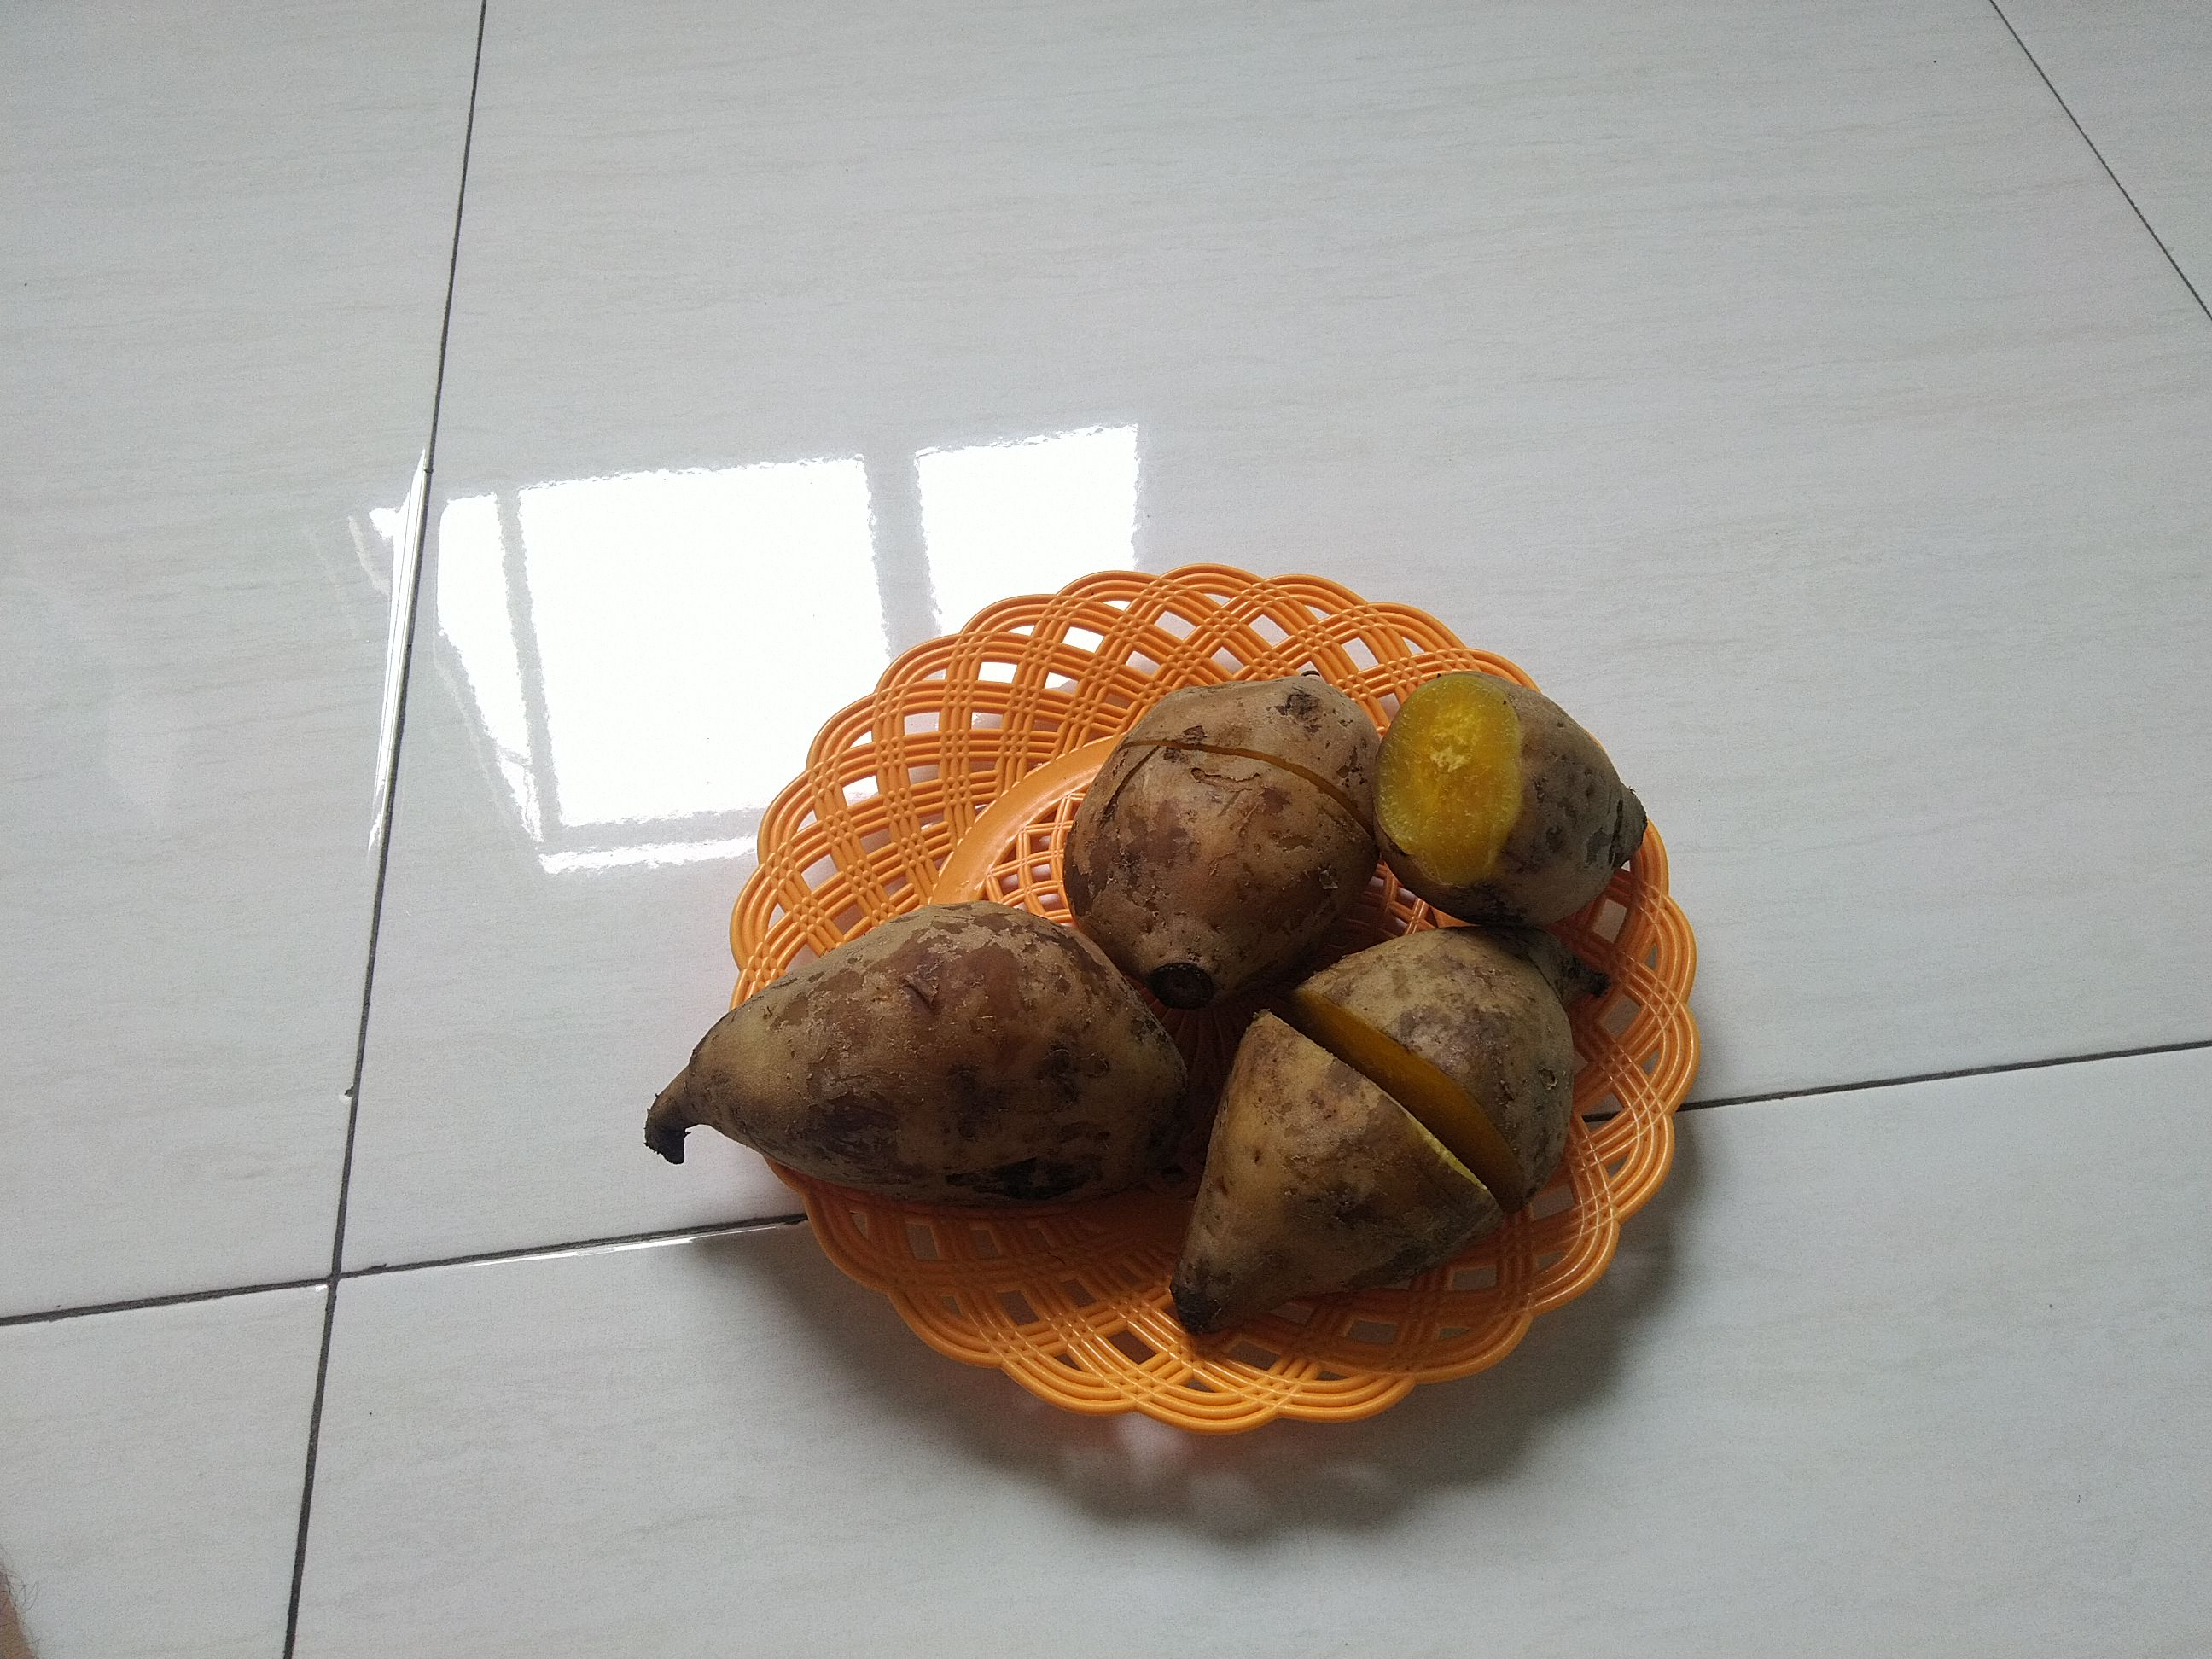ubi kuning: (624, 634, 1672, 1370), (1153, 917, 1585, 1342), (646, 903, 1174, 1213), (1045, 673, 1399, 1009), (1369, 653, 1670, 931)
